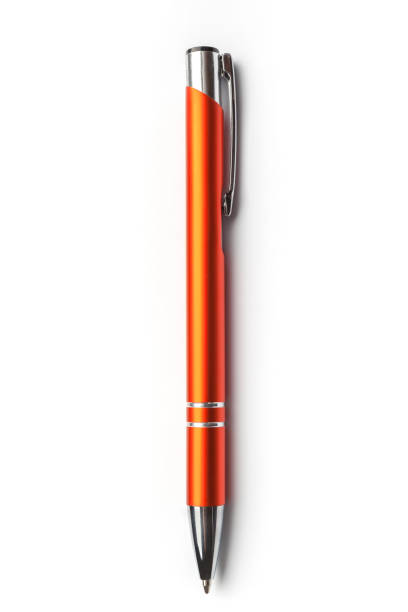pen: (157, 34, 264, 599)
